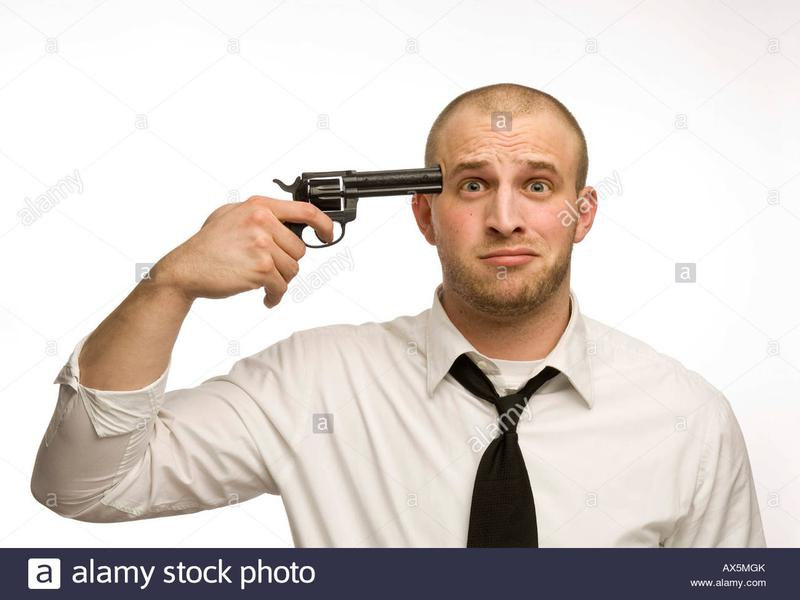Revolver: (274, 150, 444, 251)
